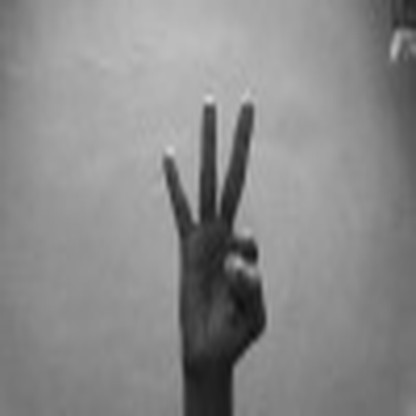f: (145, 71, 293, 377)
